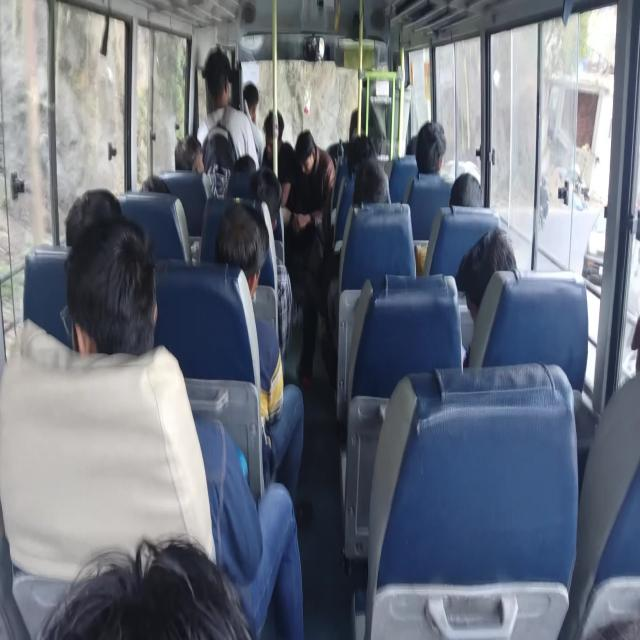person: (63, 214, 304, 637), (214, 202, 305, 513), (36, 534, 253, 639), (288, 129, 336, 387), (455, 225, 518, 368), (196, 46, 260, 172), (293, 129, 335, 238), (261, 108, 296, 207), (65, 188, 122, 248), (352, 157, 391, 206), (242, 82, 264, 165), (415, 120, 446, 175), (449, 172, 484, 208), (174, 134, 204, 174), (243, 82, 259, 124)
